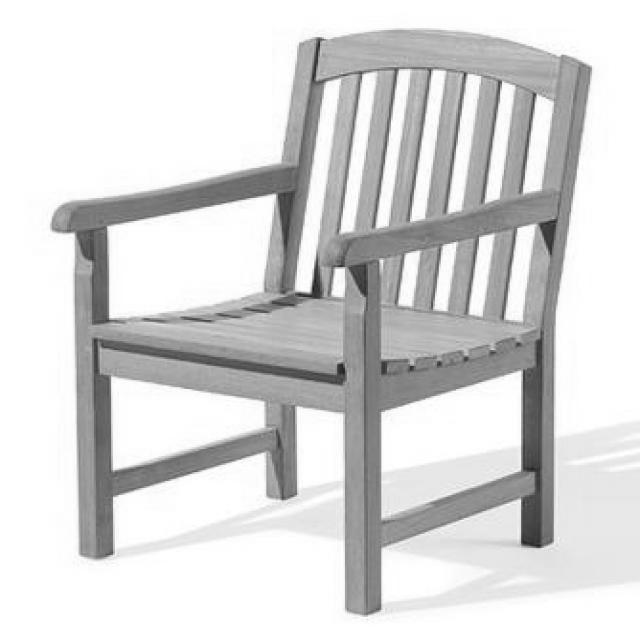chair: (49, 26, 612, 614)
